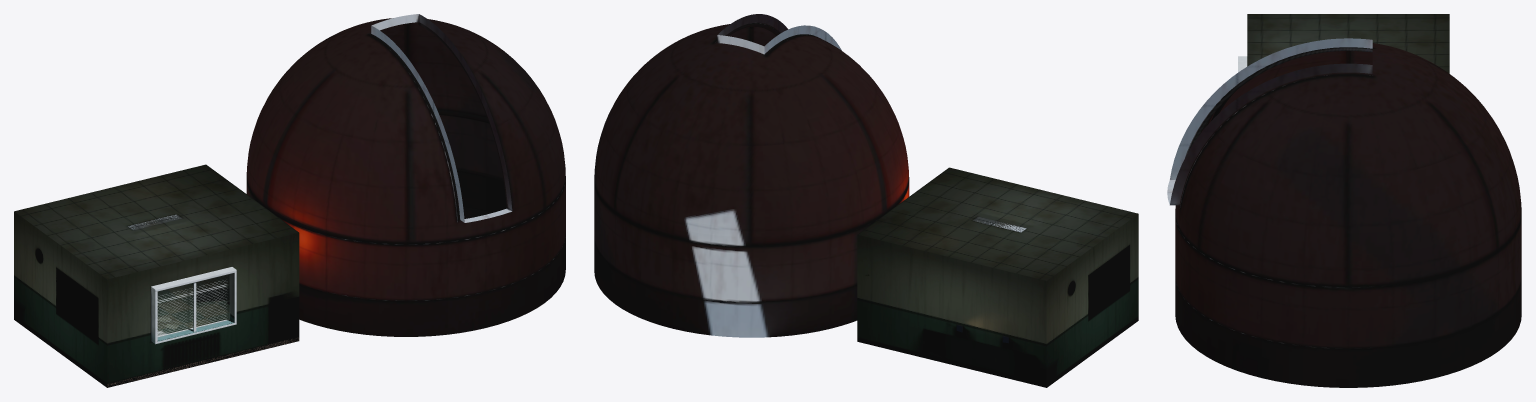
The model's file is two-rooms.glb.
3 renders of one model, left to right at view 1: azimuth 30°, elevation 25°; view 2: azimuth 150°, elevation 25°; view 3: azimuth 270°, elevation 25°, orthographic. The views are drawn at different scales.
Parts seen in each view (by area): view 1: observatory; view 2: observatory; view 3: observatory.
Part boxes in pixels (x1,y1,x2,y2): observatory: [14, 14, 565, 387]; observatory: [594, 14, 1138, 387]; observatory: [1167, 14, 1521, 387].
Bounding box in the file's own units: 12.6 × 6.27 × 7.37.
Materials: 1 (1 with a texture image).
